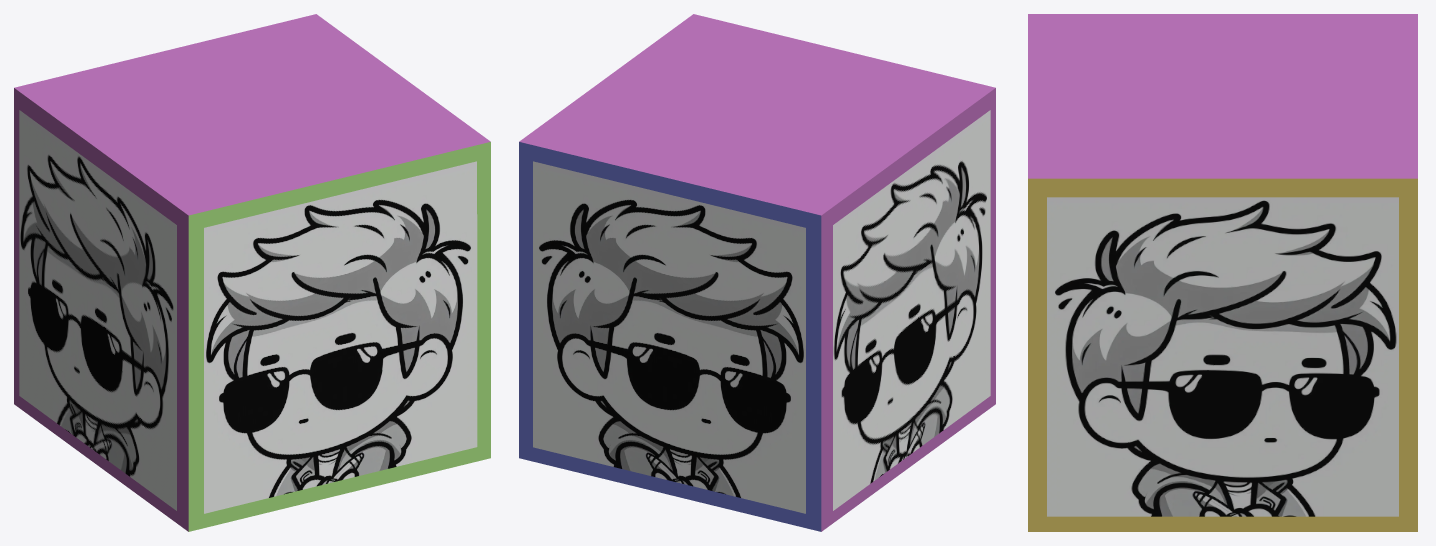
File: chi-pp.glb
The picture shows the model from 3 angles, left to right: view 1: azimuth 30°, elevation 25°; view 2: azimuth 150°, elevation 25°; view 3: azimuth 270°, elevation 25°; orthographic projection. The views are drawn at different scales.
Visible parts, largest first — view 1: 立方体; view 2: 立方体; view 3: 立方体.
Boxes of the visible parts, x1,y1,x2,y2 form: 立方体: (14, 14, 490, 531); 立方体: (519, 14, 995, 531); 立方体: (1028, 14, 1417, 531).
Size of the model in its own units: 2.04 by 2 by 2.04.
5 materials, 1 textured.
